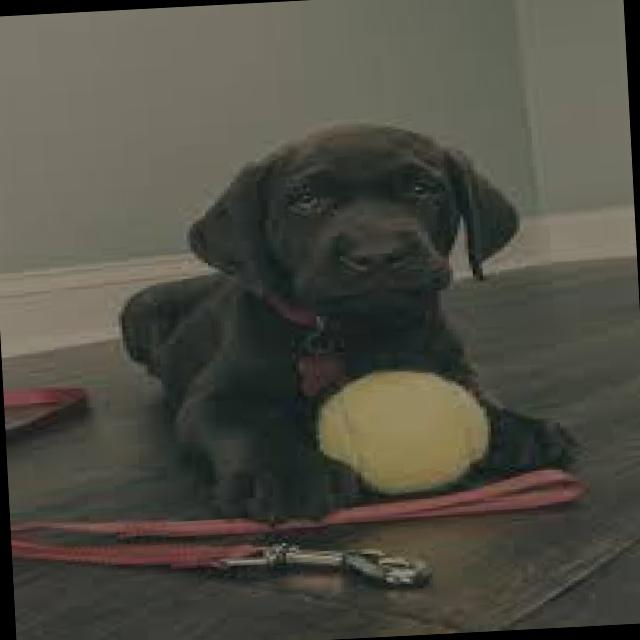Tennis Ball: (316, 366, 507, 495)
